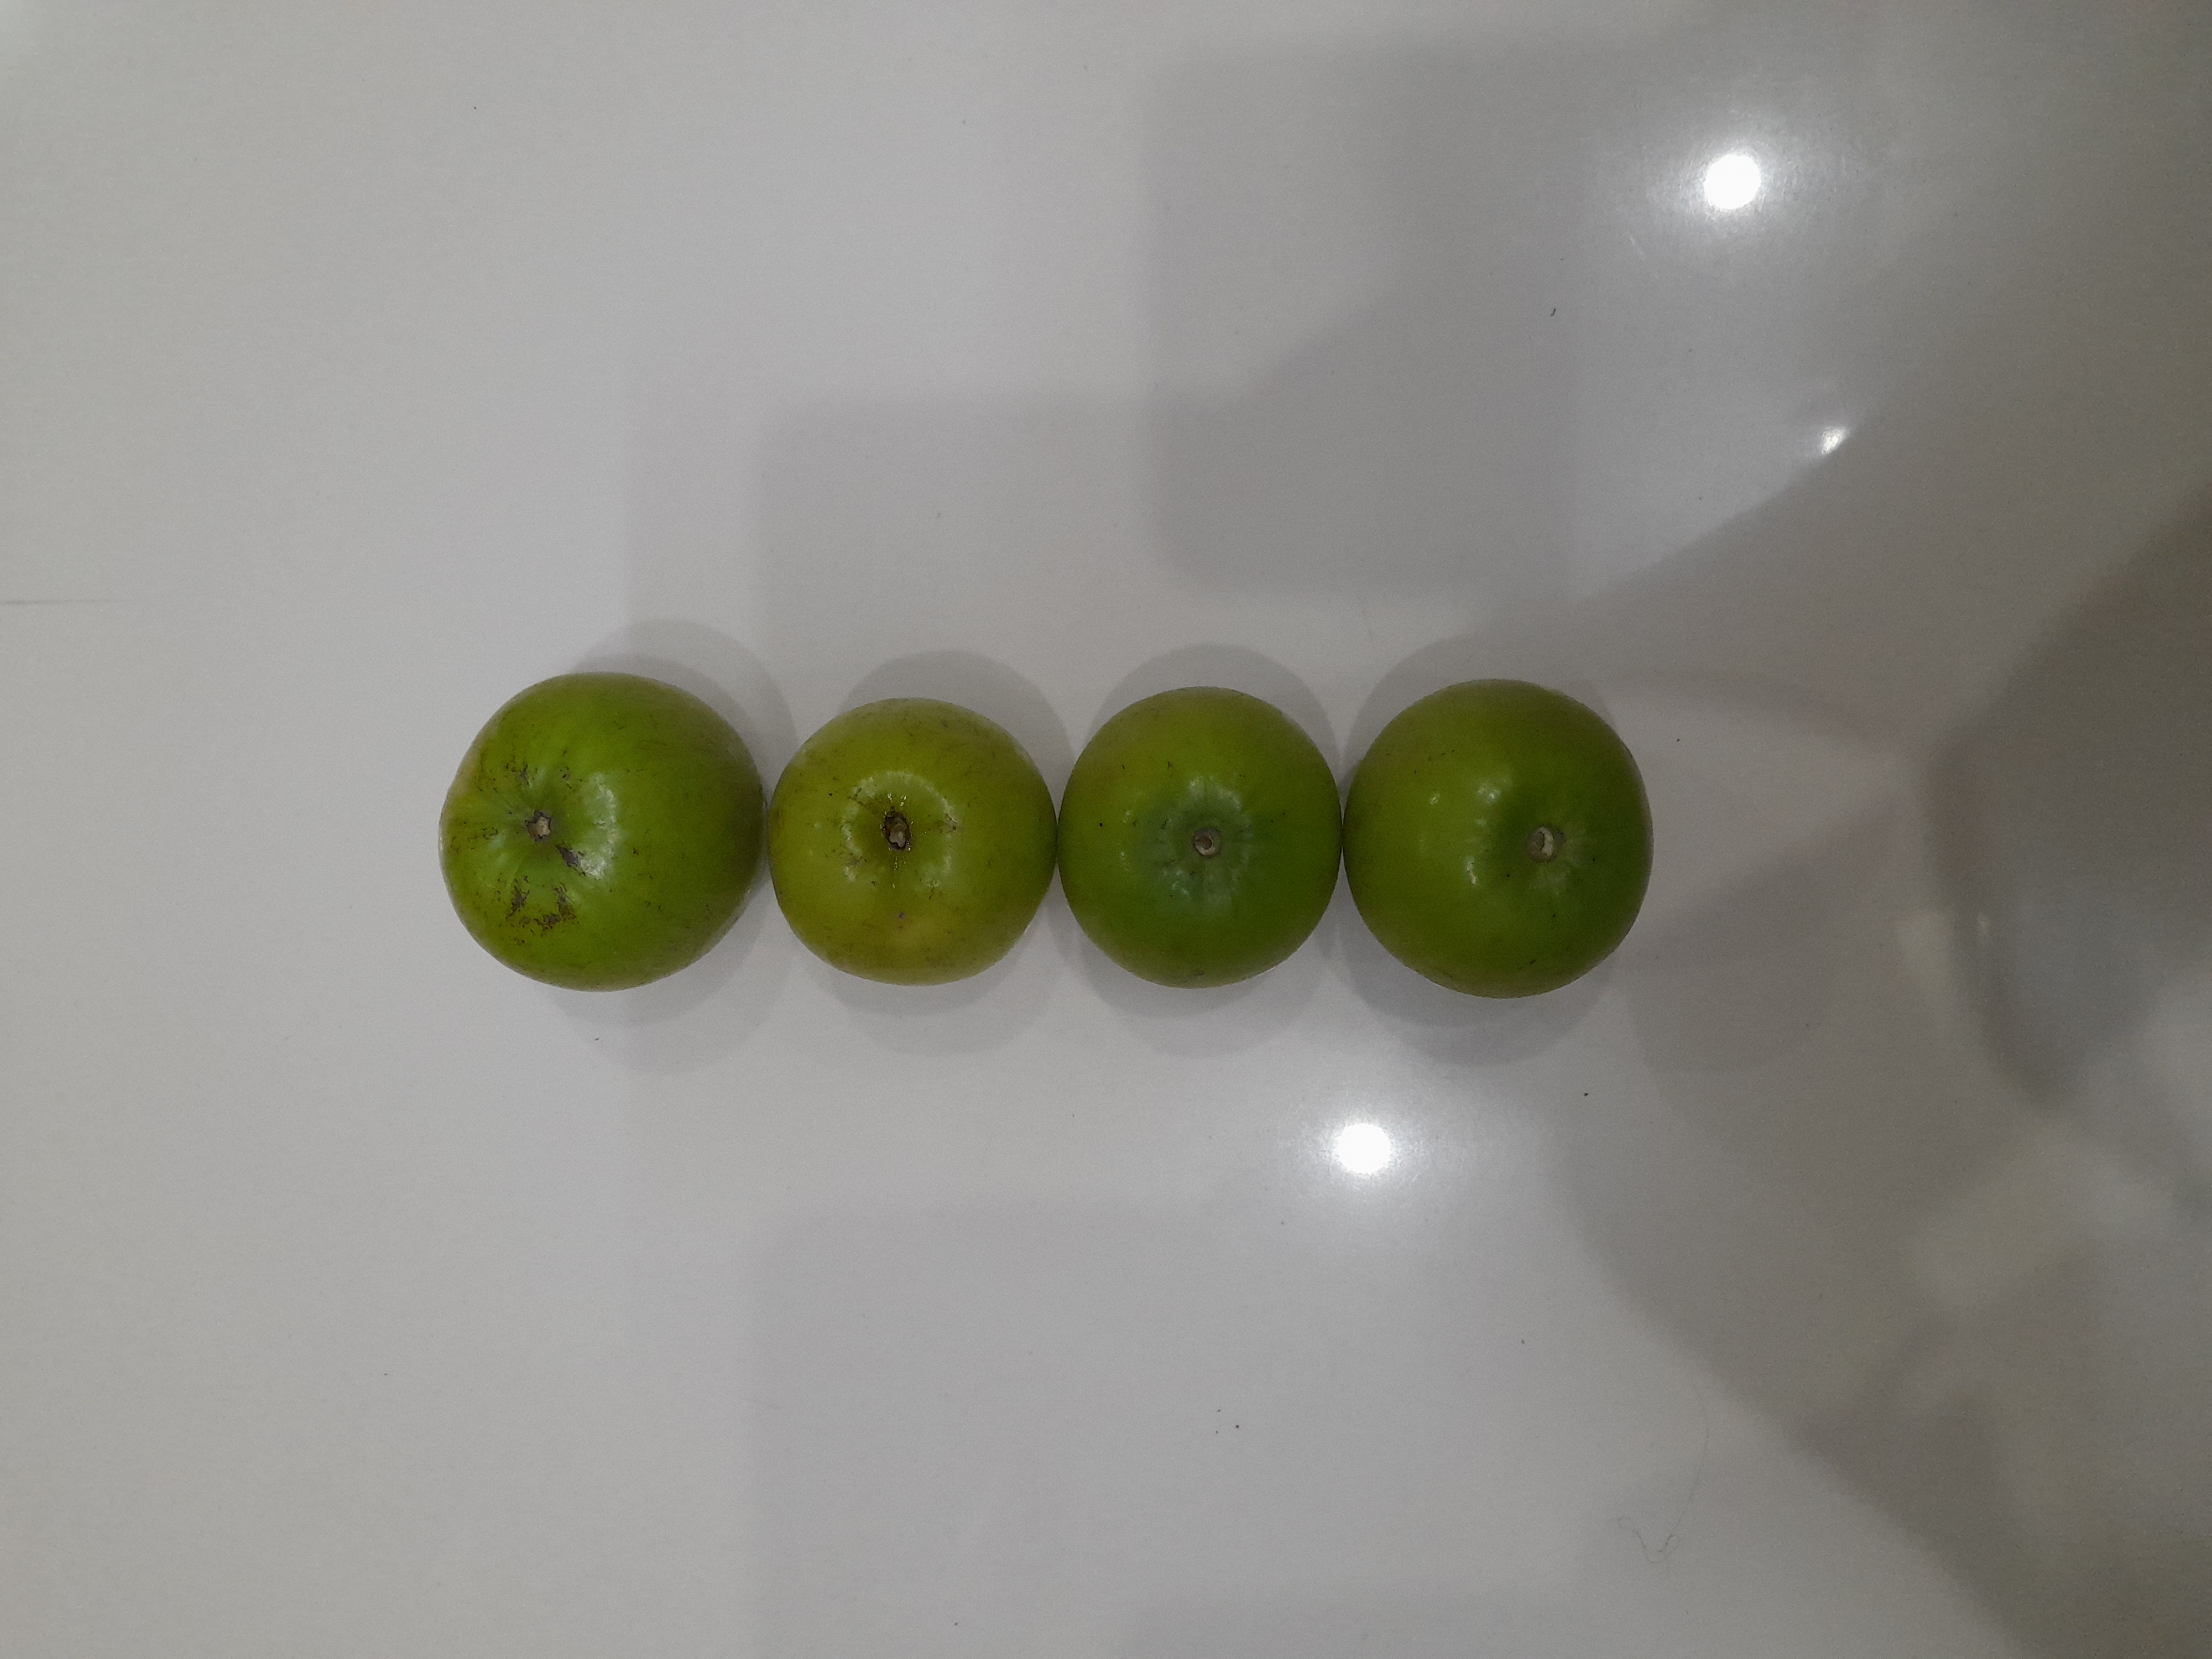Tao xanh: (434, 671, 765, 990), (1339, 680, 1656, 999), (765, 695, 1059, 992), (1057, 687, 1345, 990)
